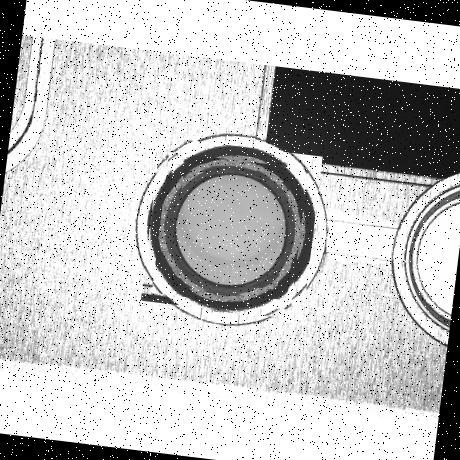Hole: (140, 136, 322, 322)
Hole2: (152, 152, 308, 310)
Hole3: (158, 160, 302, 302)
Hole4: (170, 170, 290, 290)
